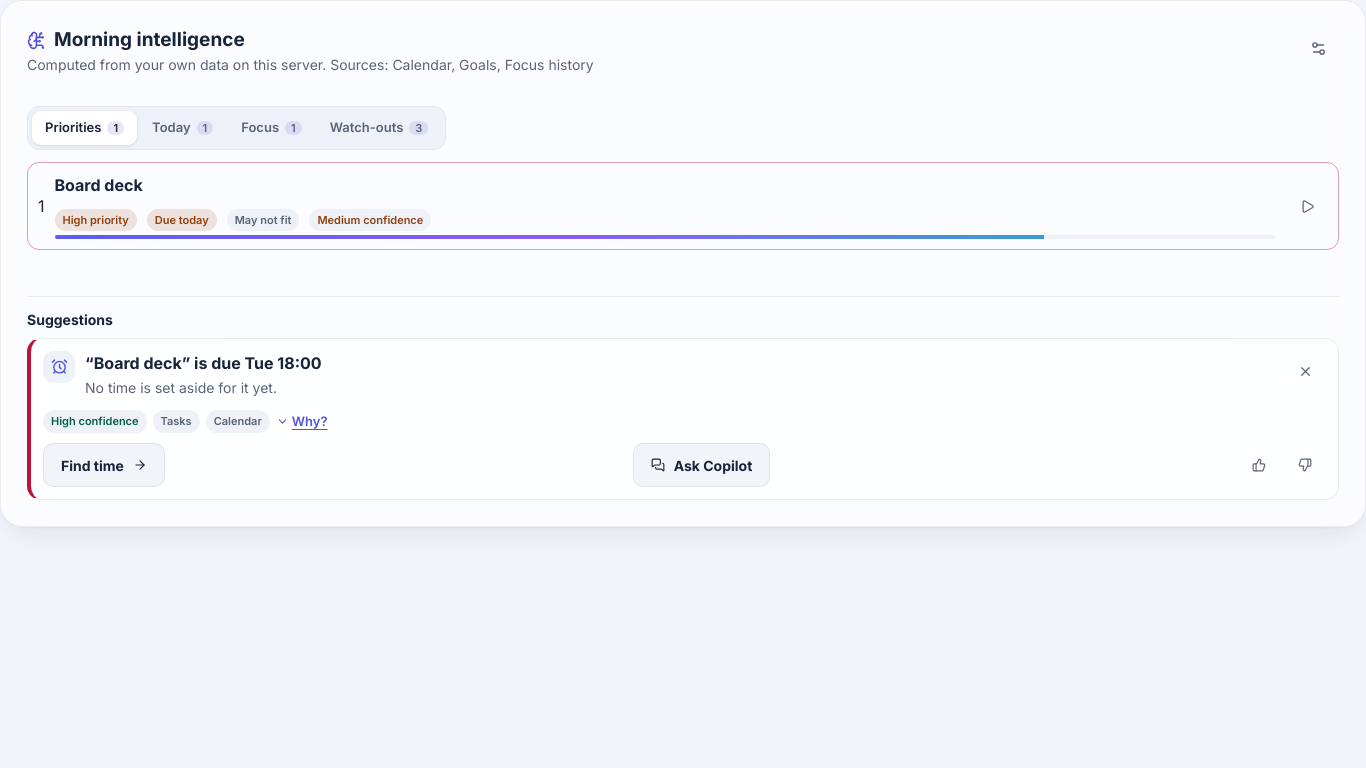
Test: morning intelligence › explains priorities, focus capacity and watch-outs with their confidence and sources
The image size is (1366, 768).
Expected: the heading "Morning intelligence" is shown, [27,28,245,51]
Expected: the text "Sources: Calendar, Goals, Focus history" is shown, [27,54,594,76]
Click the tab "Focus1".
click(271, 128)  # box [228,111,315,145]
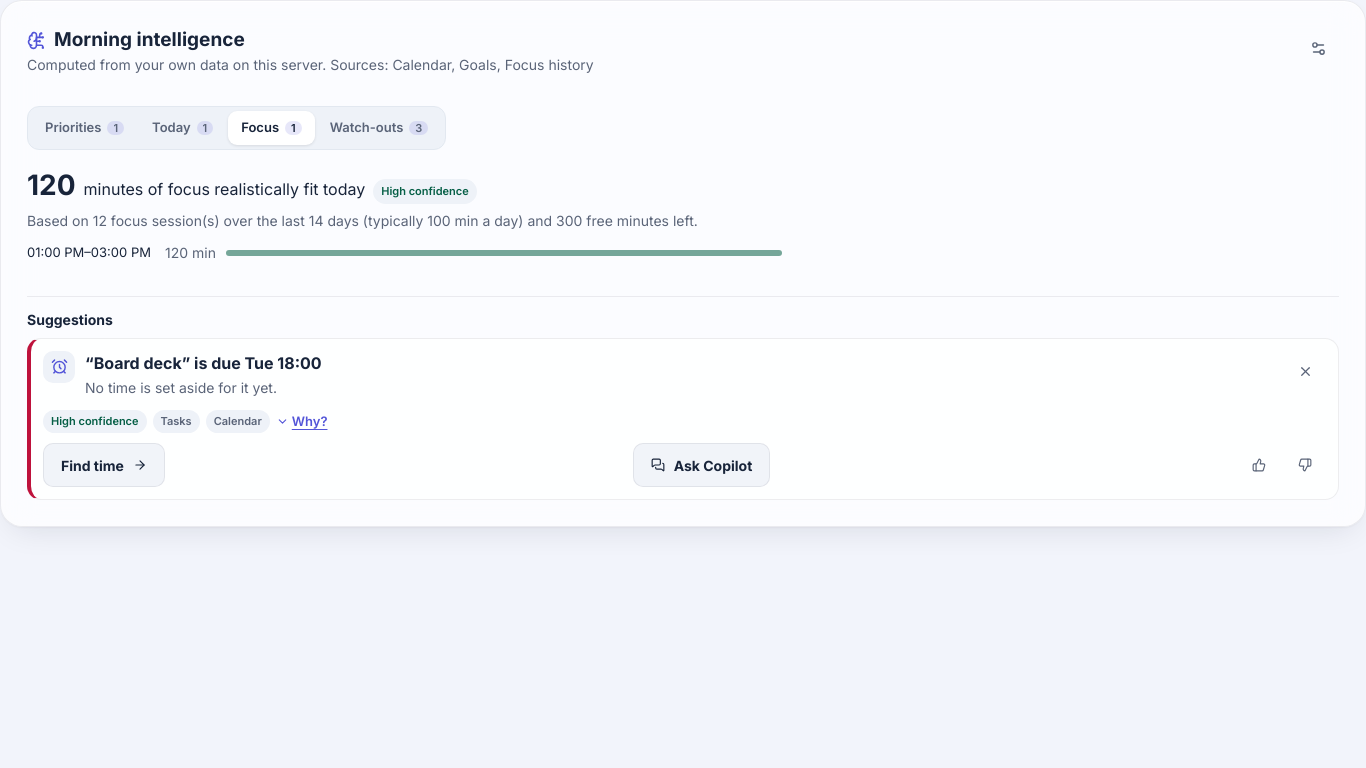
Expected: the text "Based on 12 focus session(s) over the last 14 days" is shown, [27,212,698,229]
Click the tab "Watch-outs3".
click(379, 128)  # box [317,111,441,145]
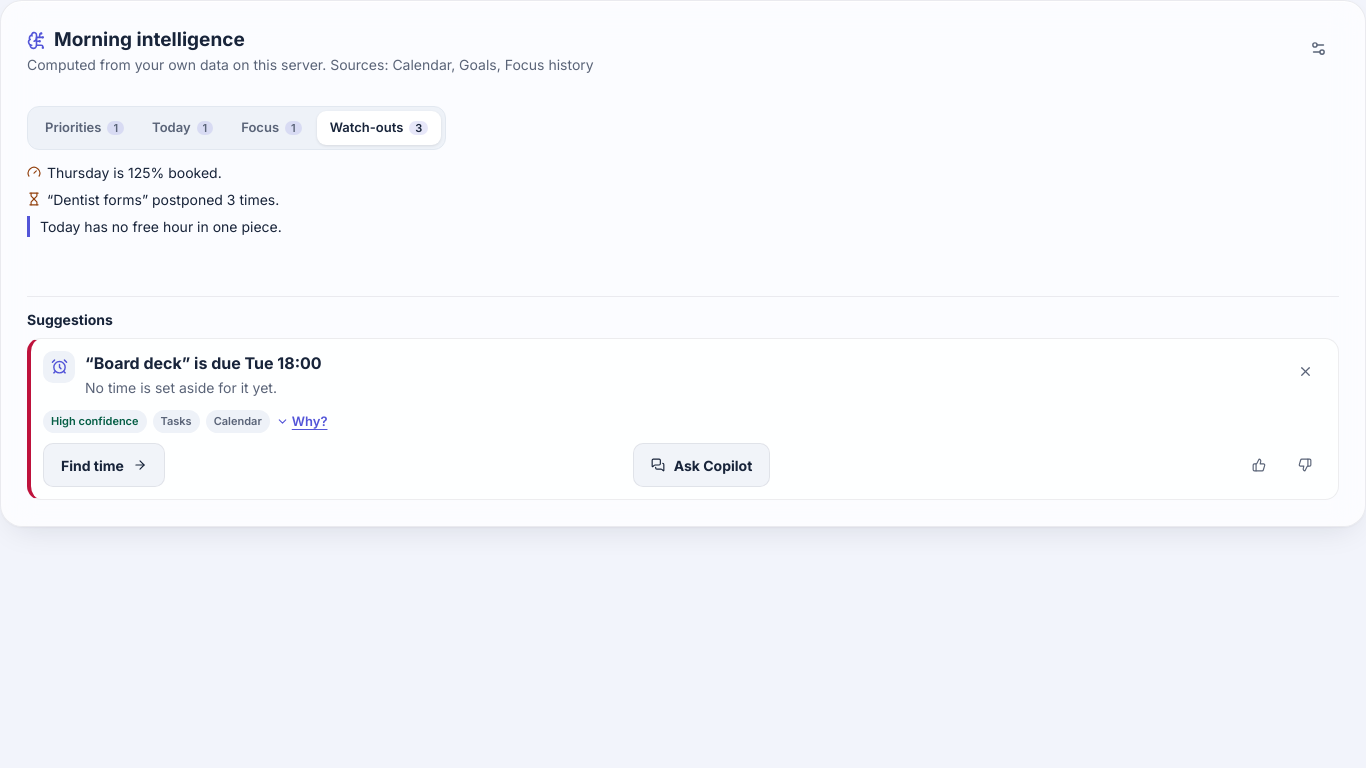
Expected: the text "“Board deck” is due Tue 18:00" is shown, [85,353,322,373]
Expected: the list item "Thursday is 125% booked." is shown, [27,164,222,181]
Expected: the list item "“Dentist forms” postponed 3 times." is shown, [27,191,279,208]
